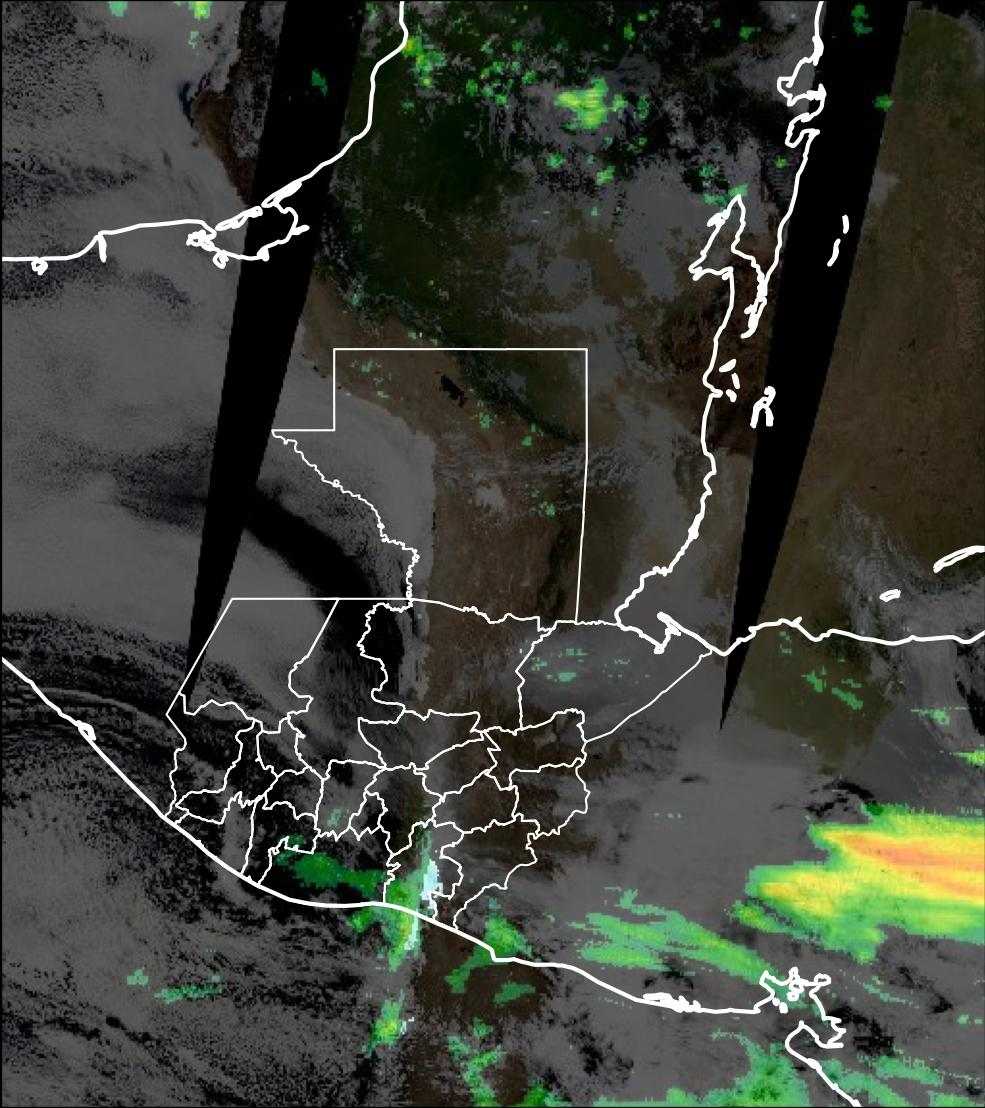precipitacion: (817, 799, 985, 926)
